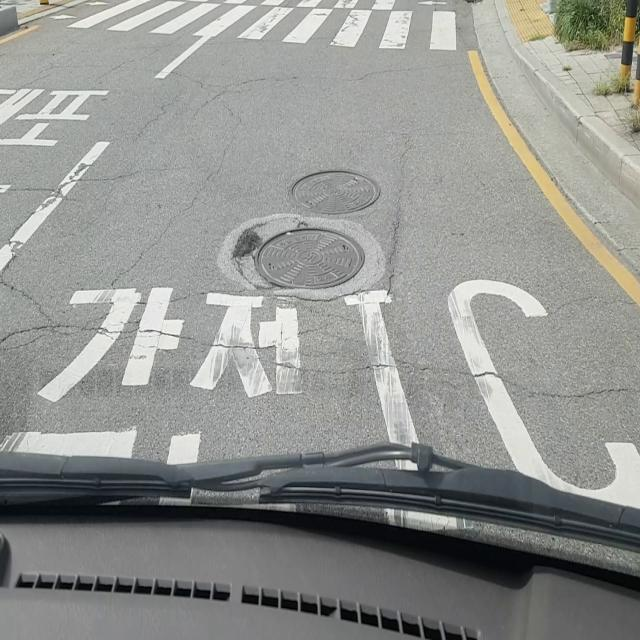Pothole: (218, 215, 368, 301)
